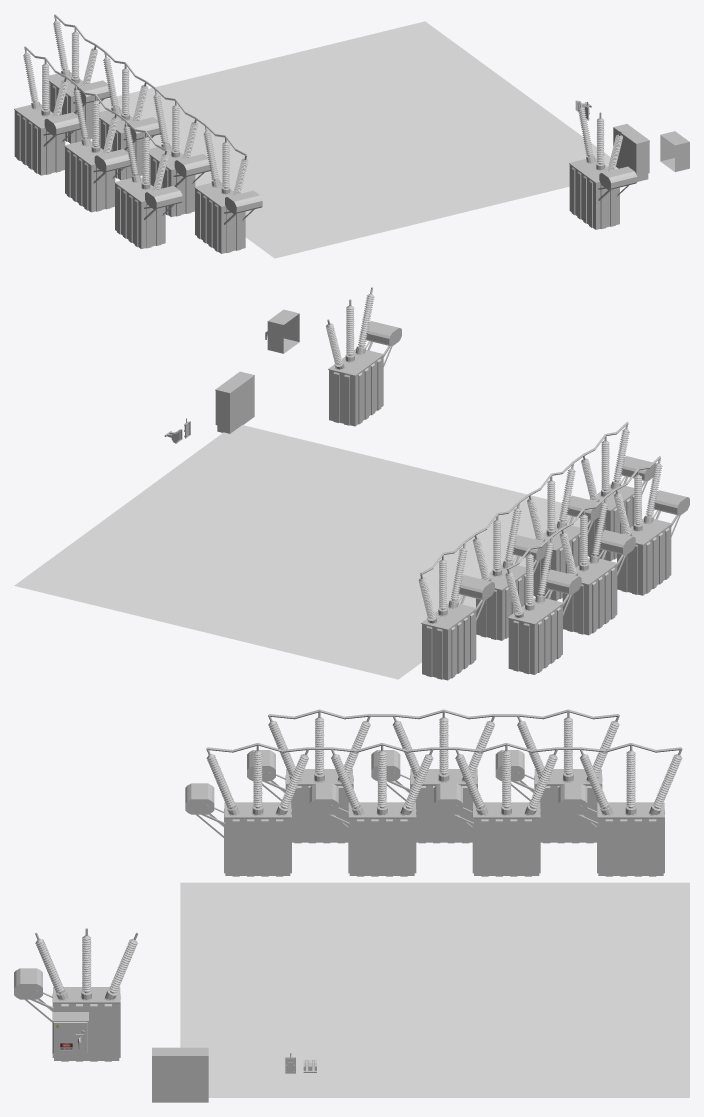
Rendered from Enviornment_Slums_PowerboxPack.fbx.
3 views of the same model, one above another, from view 1: azimuth 30°, elevation 25°; view 2: azimuth 150°, elevation 25°; view 3: azimuth 270°, elevation 25° (orthographic). The views are drawn at different scales.
Visible parts, largest first — view 1: ArenaFloor, TransformerArray, Transformer, PowerBox, FuzeBox; view 2: ArenaFloor, TransformerArray, Transformer, PowerBox, FuzeBox; view 3: ArenaFloor, TransformerArray, Transformer, PowerBox, FuzeBox.
Part boxes in pixels (x1=…): ArenaFloor: x1=98, y1=21, x2=618, y2=258; TransformerArray: x1=14, y1=14, x2=262, y2=253; Transformer: x1=569, y1=101, x2=637, y2=229; PowerBox: x1=613, y1=124, x2=649, y2=181; FuzeBox: x1=660, y1=131, x2=689, y2=171; ArenaFloor: x1=14, y1=425, x2=580, y2=679; TransformerArray: x1=418, y1=422, x2=689, y2=680; Transformer: x1=326, y1=287, x2=401, y2=426; PowerBox: x1=215, y1=371, x2=254, y2=433; FuzeBox: x1=265, y1=309, x2=299, y2=353; ArenaFloor: x1=180, y1=882, x2=689, y2=1097; TransformerArray: x1=185, y1=709, x2=682, y2=876; Transformer: x1=14, y1=928, x2=138, y2=1061; PowerBox: x1=152, y1=1047, x2=208, y2=1102; FuzeBox: x1=52, y1=1012, x2=88, y2=1053.
Bounding box in the file's own units: 26.53 × 25.88 × 5.63.
